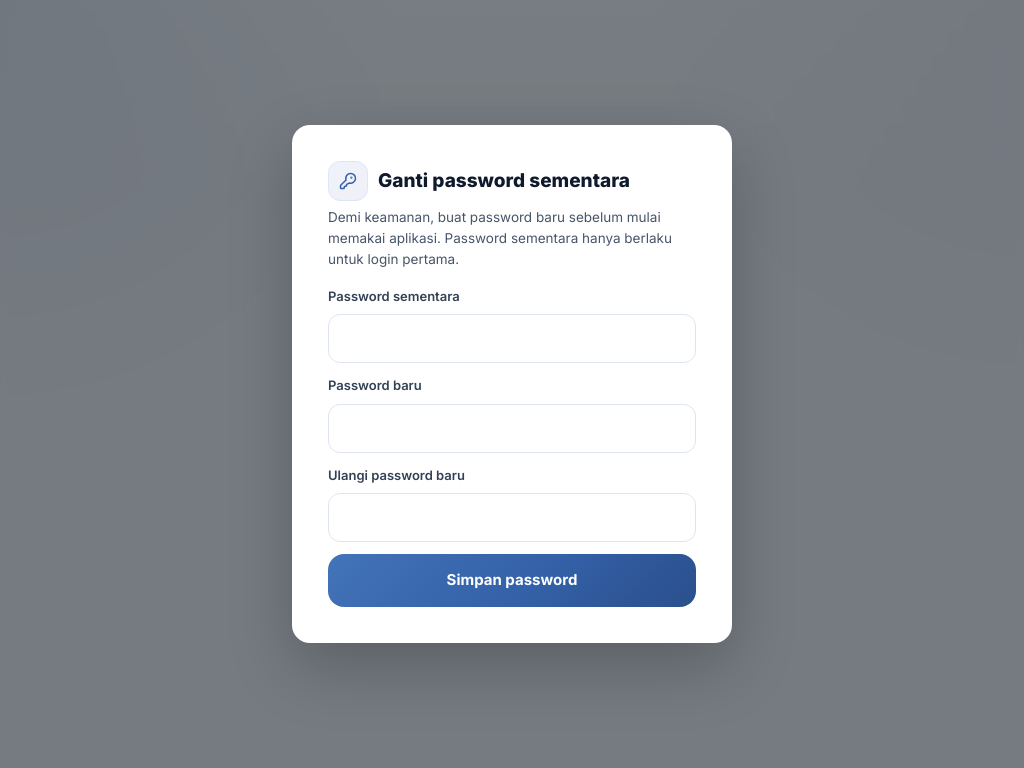
ForcePasswordChange › shows the API error when the temporary password is wrong
Type "wrong-pass" into the password field labelled "Password sementara" at (512, 339), box [328,314,696,363]
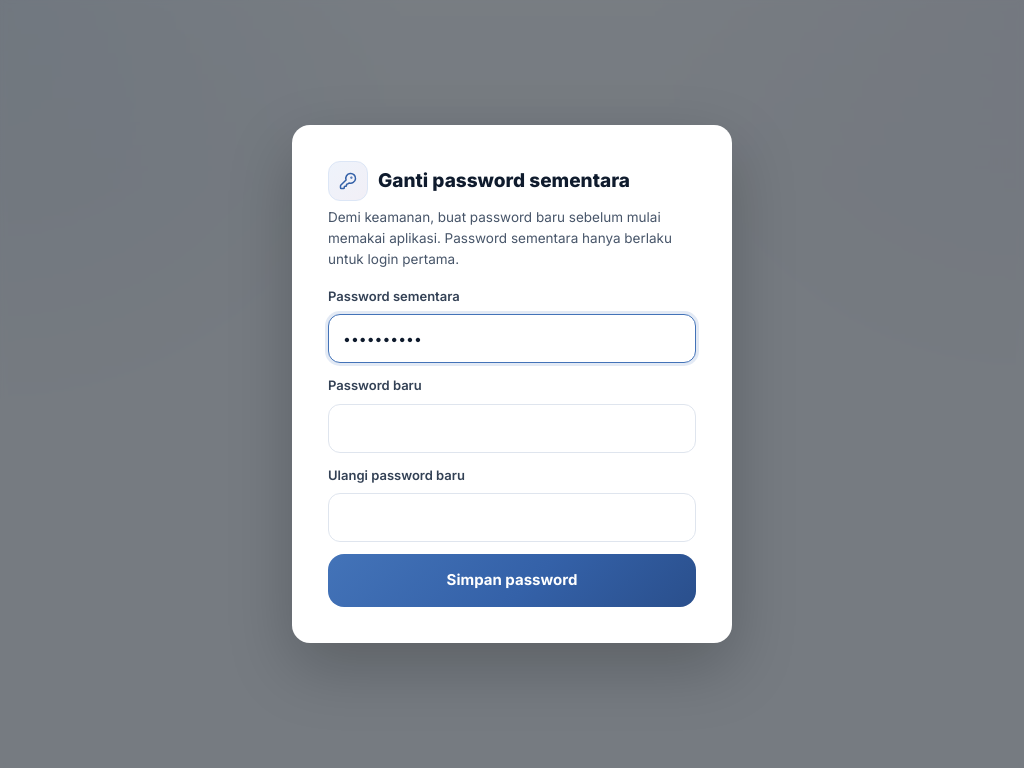
Type "NewSecure-789" into the password field labelled "Password baru" at (512, 428), box [328,404,696,453]
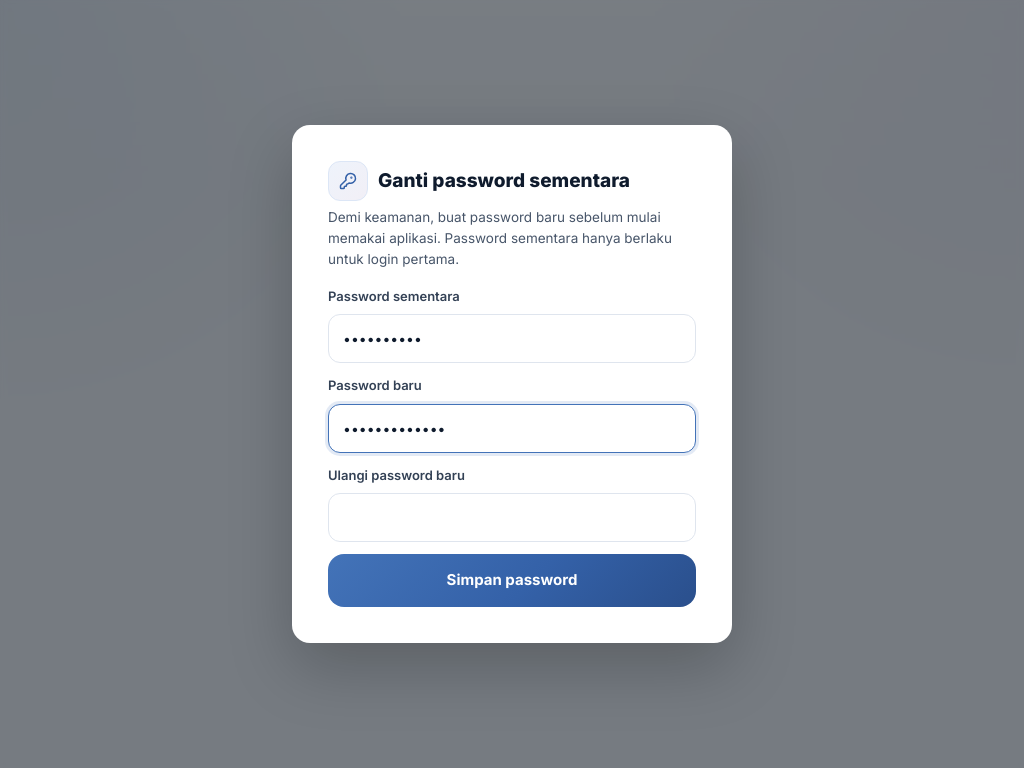
Type "NewSecure-789" into the password field labelled "Ulangi password baru" at (512, 518), box [328,493,696,542]
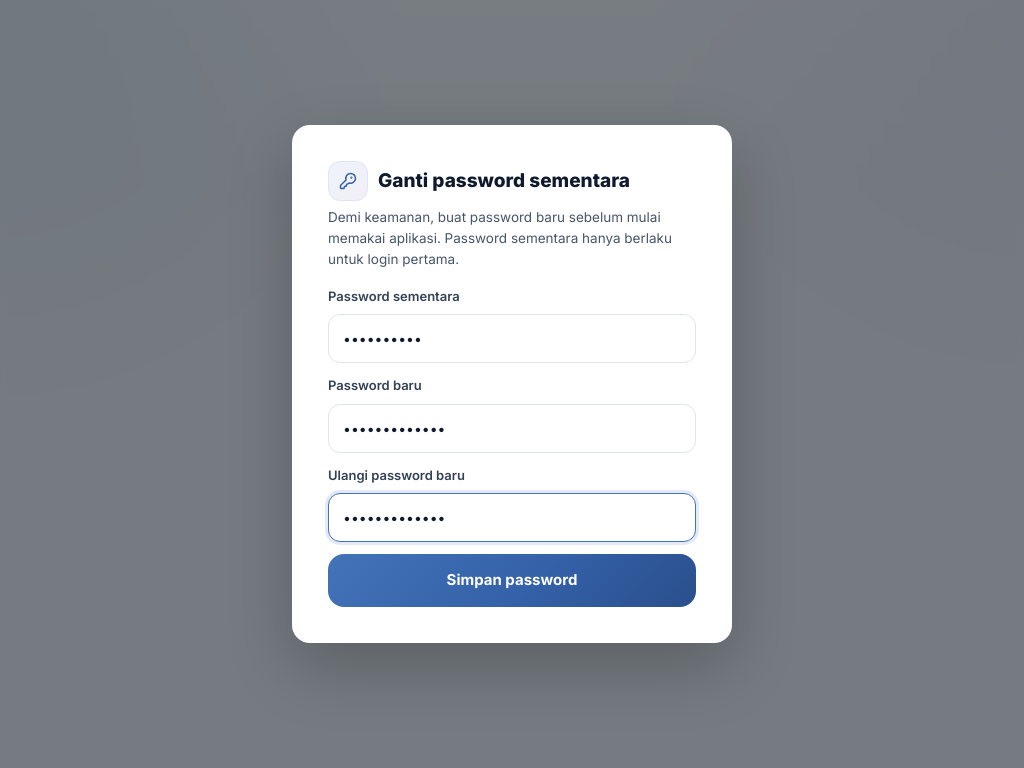
Click the button "Simpan password" at (512, 581), box [328,554,696,607]
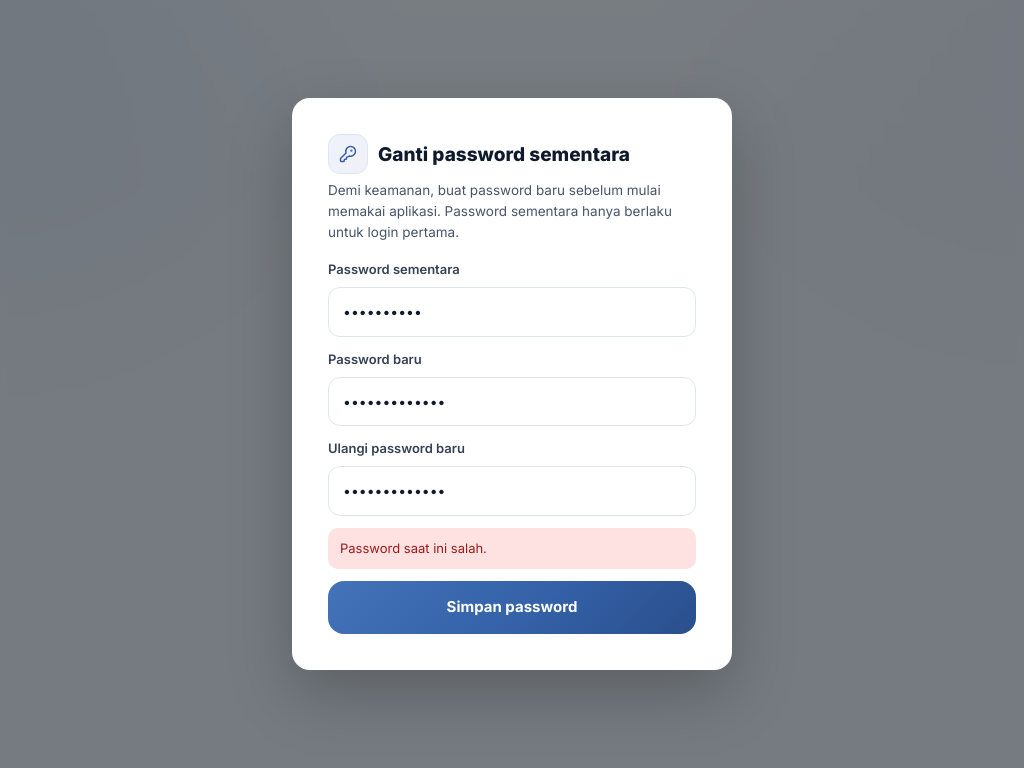
Expected: the message reads "Password saat ini salah.", [340,540,487,556]
